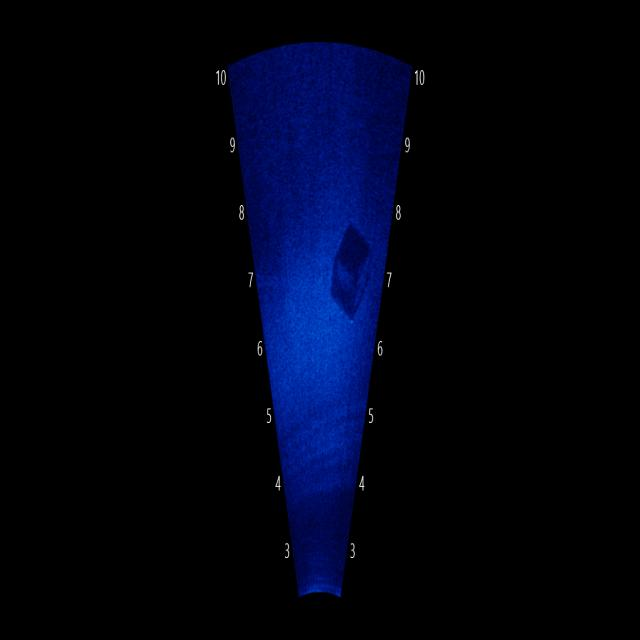square: (306, 199, 379, 334)
